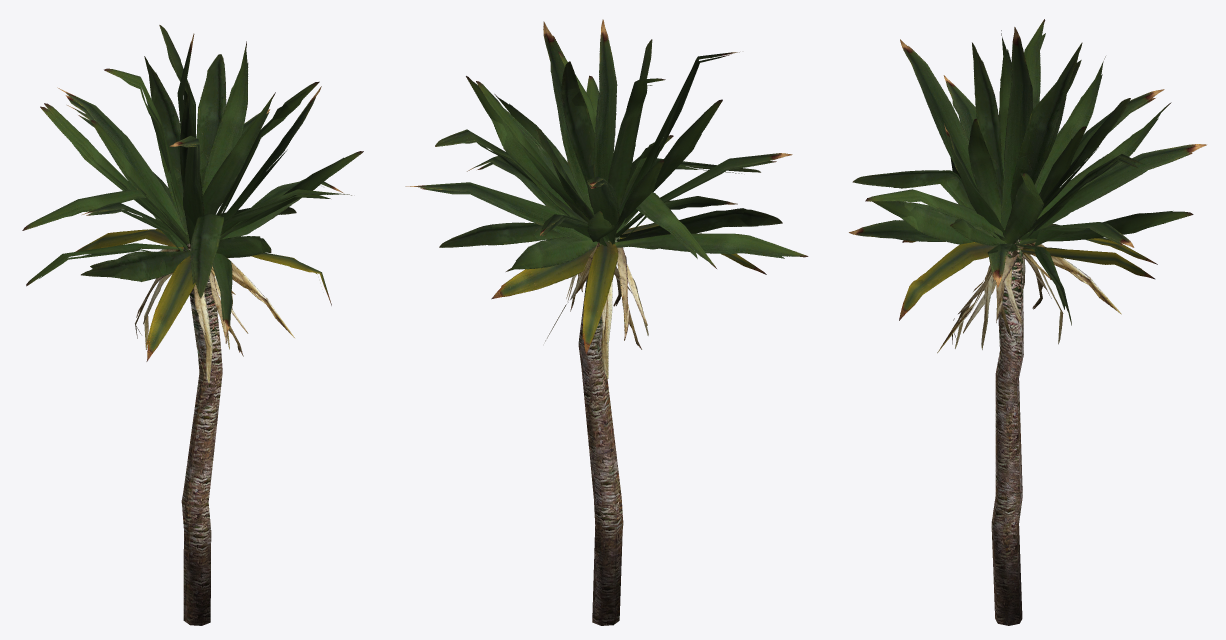
Rendered from MK4_Yucca1.DAE.
The picture shows the model from 3 angles, left to right: view 1: azimuth 30°, elevation 25°; view 2: azimuth 150°, elevation 25°; view 3: azimuth 270°, elevation 25°; orthographic projection. The views are drawn at different scales.
Visible parts, largest first — view 1: Mk4_Yucca150, Mk4_Yucca50; view 2: Mk4_Yucca150, Mk4_Yucca50; view 3: Mk4_Yucca150, Mk4_Yucca50.
Boxes of the visible parts, x1,y1,x2,y2 form: Mk4_Yucca150: [22, 25, 363, 625]; Mk4_Yucca50: [39, 33, 343, 620]; Mk4_Yucca150: [405, 19, 808, 625]; Mk4_Yucca50: [420, 19, 784, 625]; Mk4_Yucca150: [849, 19, 1206, 625]; Mk4_Yucca50: [860, 27, 1192, 348].
Size of what is drawn, in the model's own units: 18.48 by 17.46 by 31.31.
